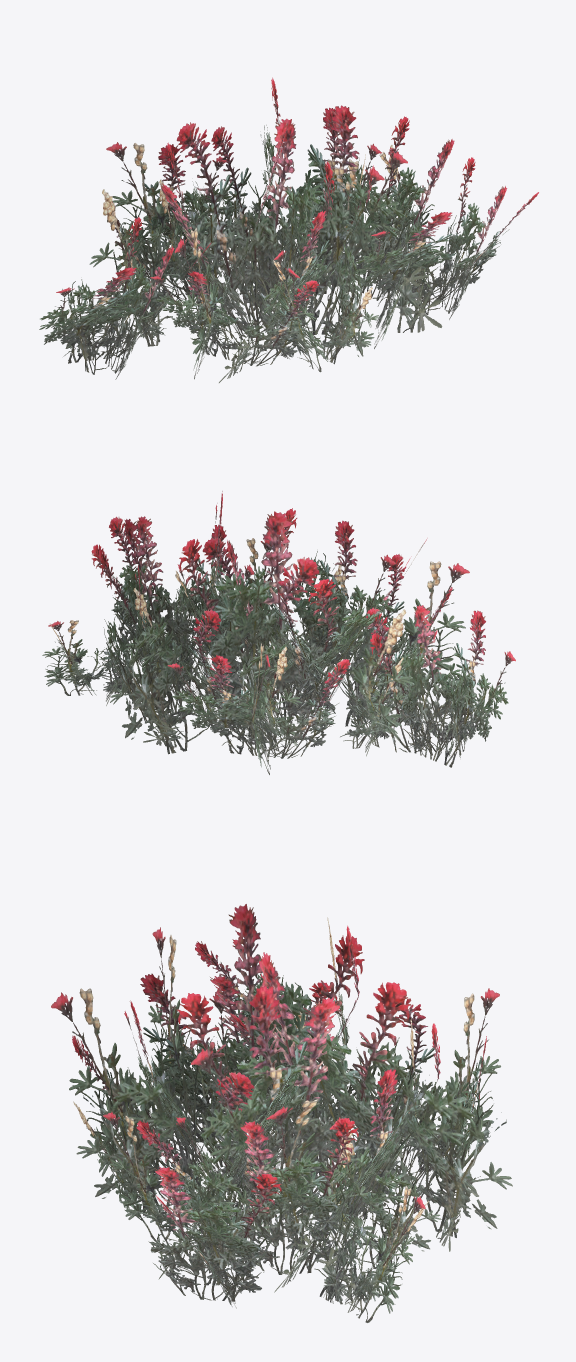
Rendered from proc_indian_pbrush_01.FBX.
3 renders of one model, top to bottom at view 1: azimuth 30°, elevation 25°; view 2: azimuth 150°, elevation 25°; view 3: azimuth 270°, elevation 25°, orthographic. The views are drawn at different scales.
Parts seen in each view (by area): view 1: proc_indian_pbrush_01; view 2: proc_indian_pbrush_01; view 3: proc_indian_pbrush_01.
Boxes of the visible parts, box(x1,y1,x2,y2) form: proc_indian_pbrush_01: box(39, 77, 538, 382); proc_indian_pbrush_01: box(42, 491, 515, 774); proc_indian_pbrush_01: box(51, 904, 512, 1322).
Size of the model in its own units: 2.5 by 1.81 by 0.9785.
Materials: 1 (1 with a texture image).
